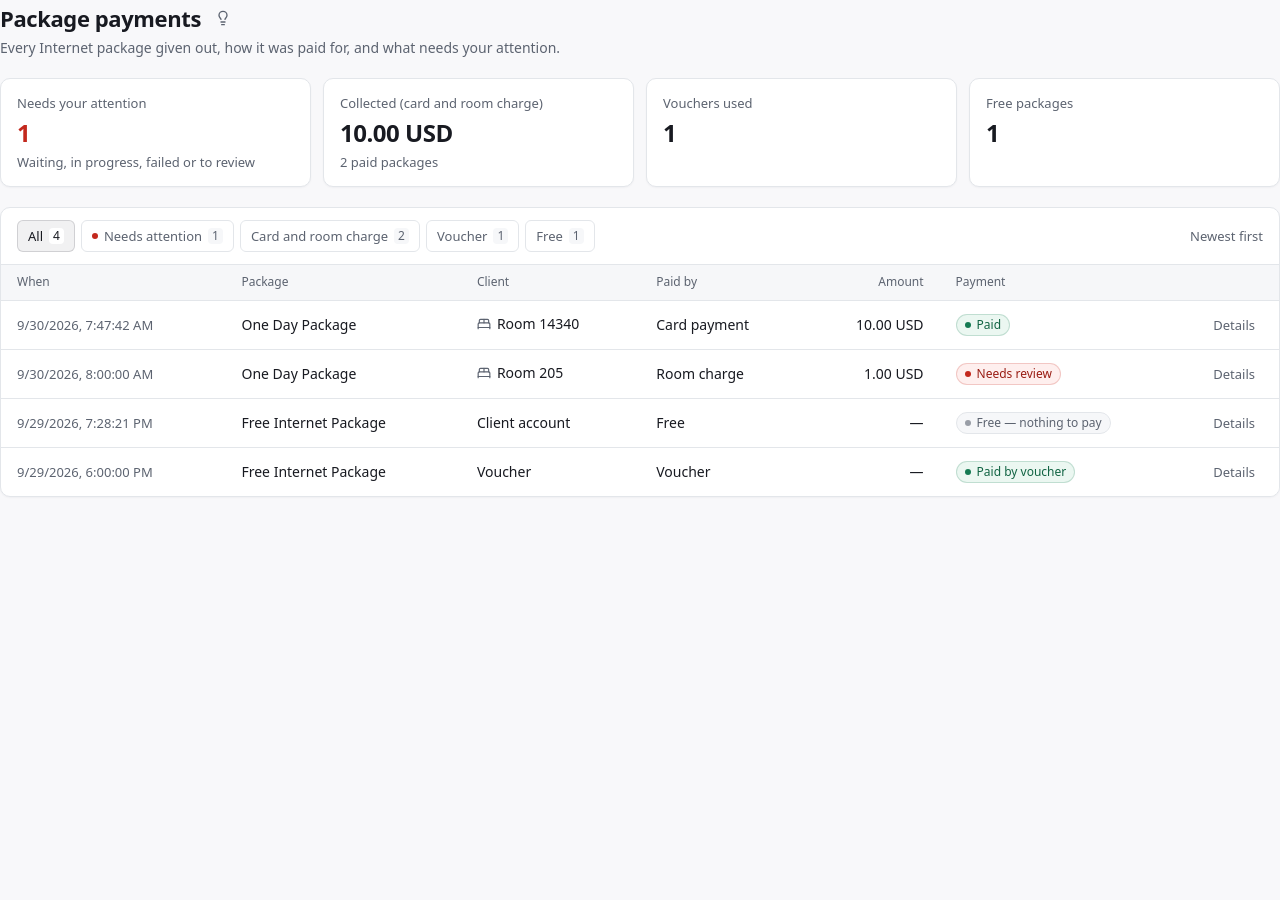
Test: package payments › shows the card payment and offers no refund affordance
Step 1. Click the button with aria-label "details of" → (1234, 325), box x1=1205 y1=311 x2=1263 y2=339
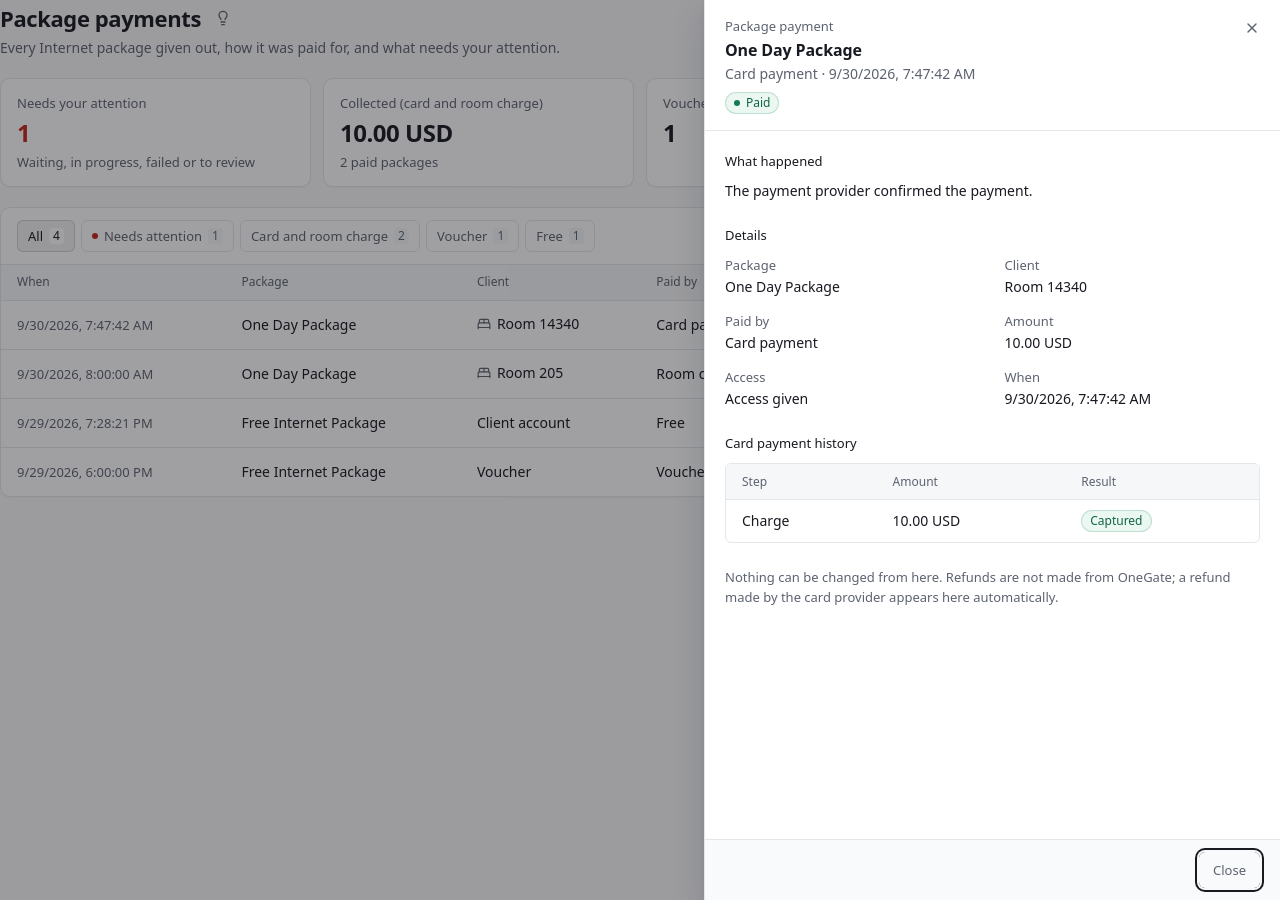
Result: the text "Captured" is shown at x1=1081 y1=510 x2=1152 y2=532
Result: the text "Refunds are not made from OneGate" is shown at x1=725 y1=568 x2=1230 y2=606
